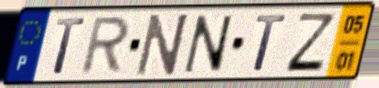N: (134, 11, 193, 79), (182, 13, 235, 76)
R: (77, 15, 133, 77)
T: (250, 12, 290, 74), (51, 16, 87, 77)
Z: (282, 12, 338, 75)
